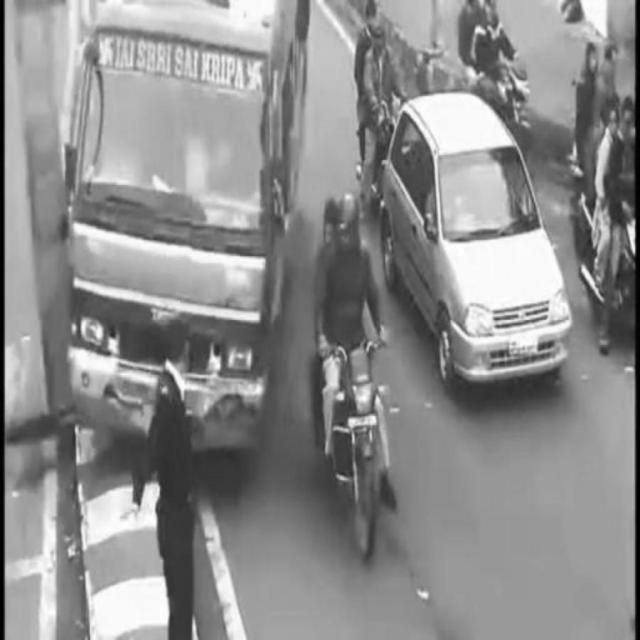person: (128, 324, 229, 638)
vehicle: (73, 13, 283, 461), (390, 94, 572, 388), (313, 191, 401, 566), (350, 3, 404, 200)
